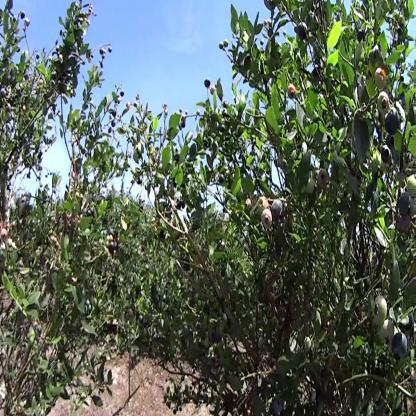intermediate: (318, 170, 328, 188), (262, 210, 271, 229), (258, 198, 268, 215), (288, 84, 296, 99), (245, 197, 252, 212), (1, 229, 8, 243), (117, 95, 122, 106)
mature: (392, 332, 409, 363), (381, 135, 398, 164), (400, 192, 412, 232), (385, 110, 401, 135), (271, 199, 284, 221), (298, 22, 309, 40), (109, 242, 119, 255), (358, 26, 366, 42), (183, 326, 190, 340), (1, 88, 7, 98), (20, 10, 26, 19)
young: (375, 297, 394, 345), (376, 68, 387, 91), (302, 178, 315, 196), (406, 175, 416, 197), (377, 94, 389, 112), (304, 338, 312, 354), (258, 337, 266, 351), (219, 40, 230, 49)
